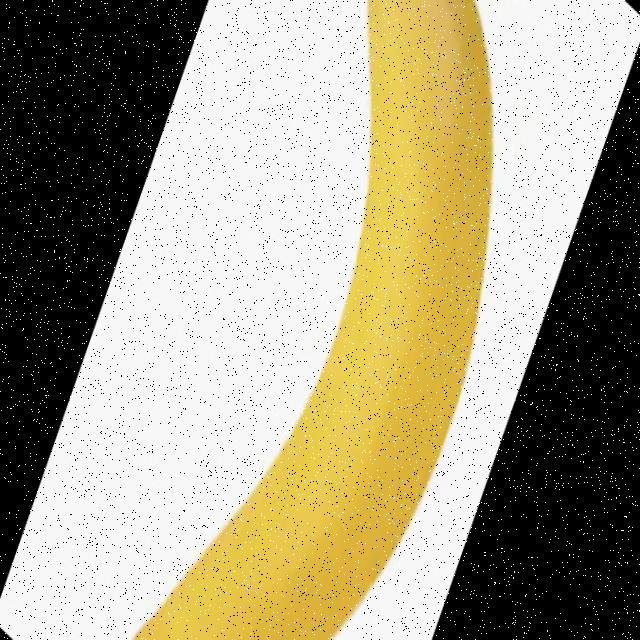god quality banana: (138, 2, 493, 638)
